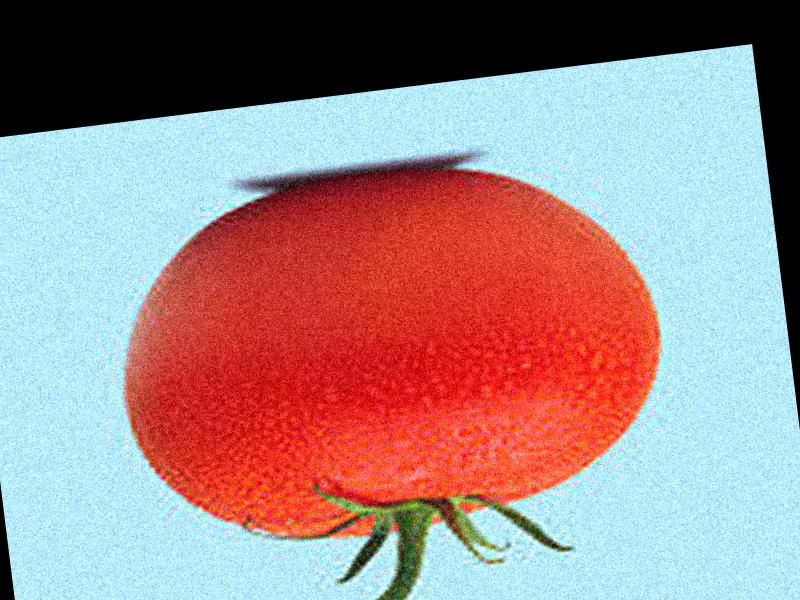Tomato: (104, 146, 680, 559)
